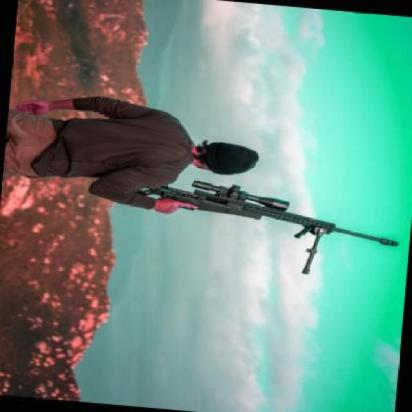Gun: (133, 170, 412, 275)
